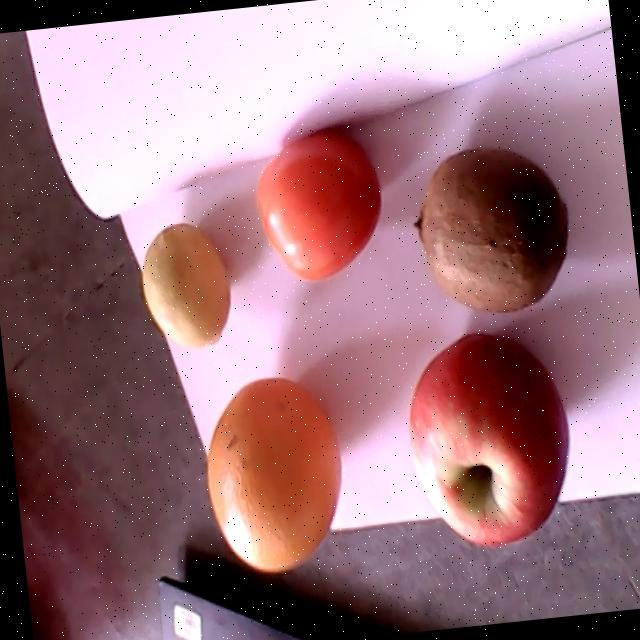apple: (408, 333, 567, 544)
kiwi: (411, 147, 567, 310)
lemon: (140, 221, 228, 346)
orange: (206, 377, 339, 570)
tomato: (255, 127, 380, 278)
